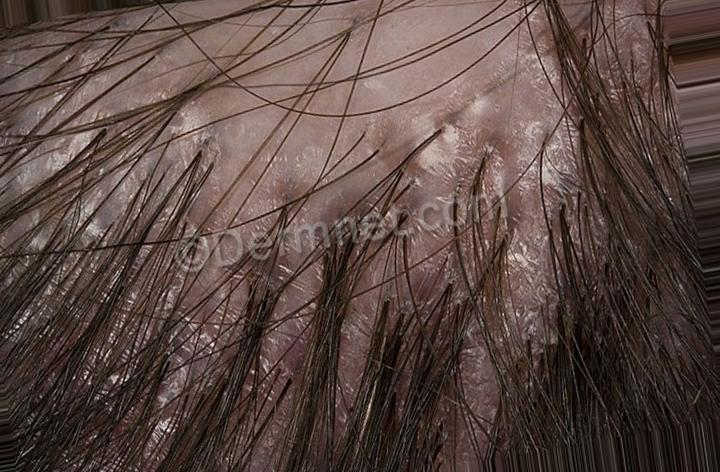Folliculitis: (206, 24, 594, 324)
